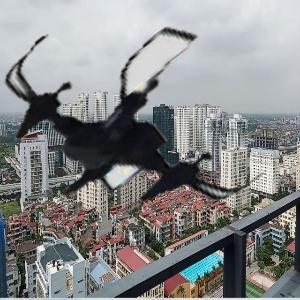drone: (3, 3, 250, 250)
